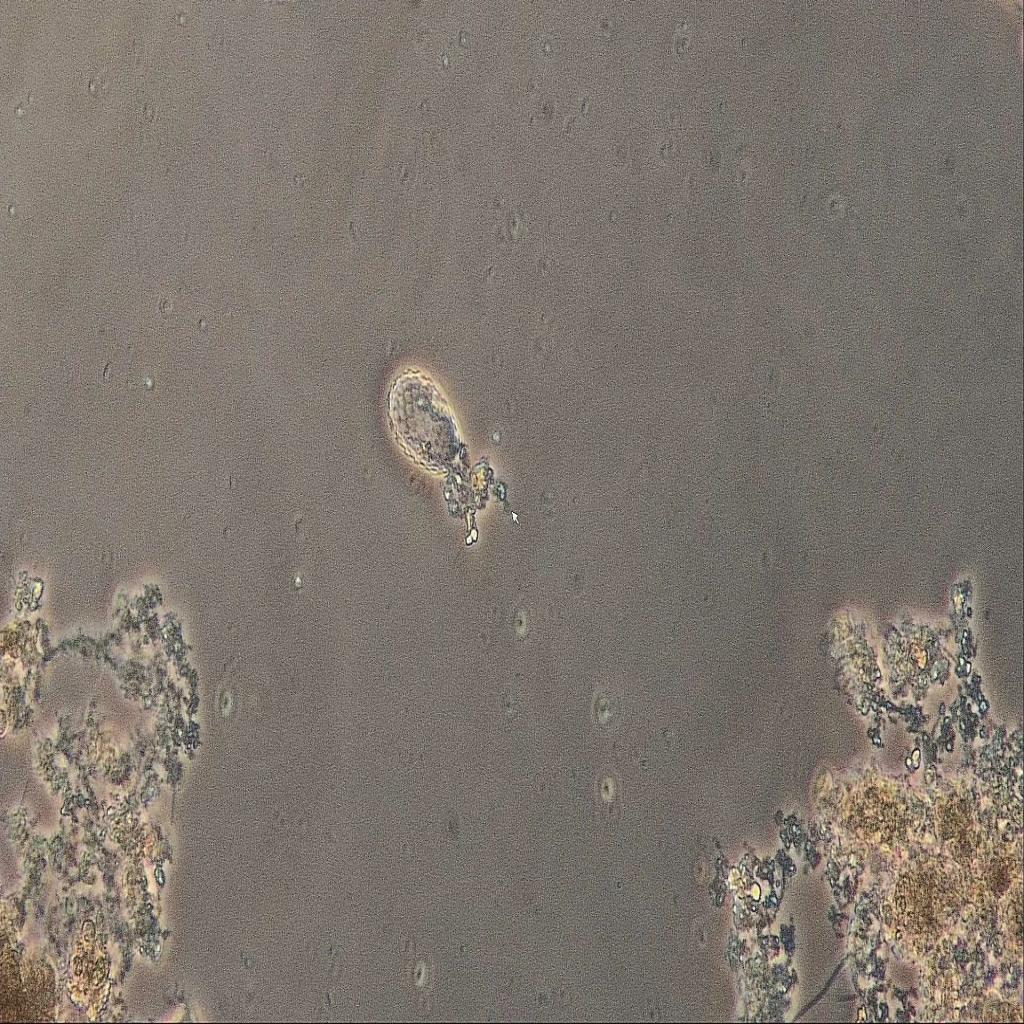Euglypha: (385, 348, 481, 504)
